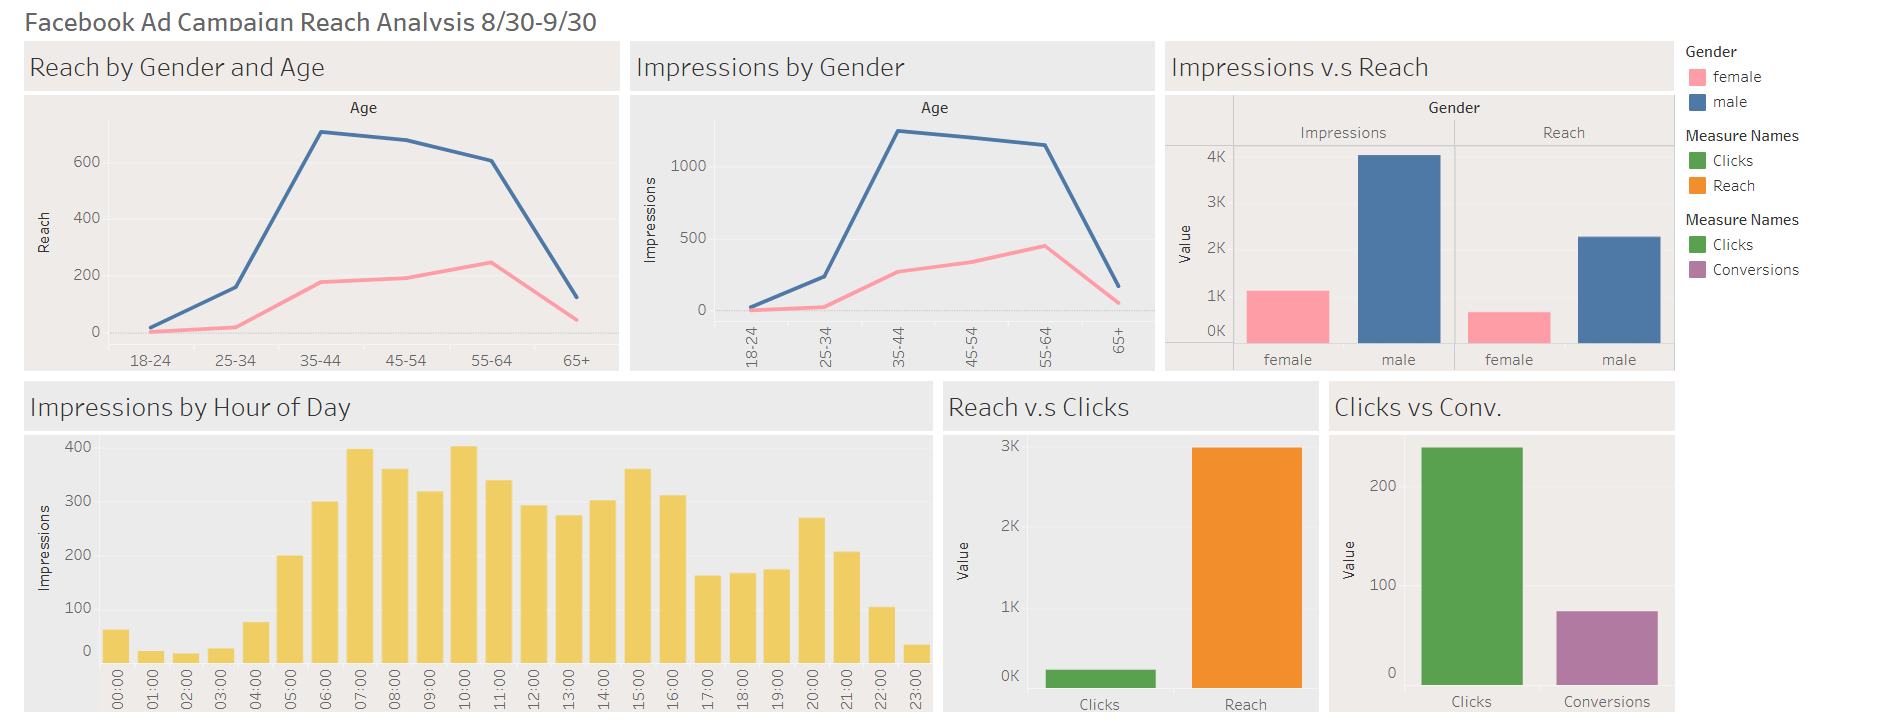

The page's visual inventory and layout, read from the dashboard file:
{"tool":"tableau","page":{"name":"Dashboard 2","canvas":[1000,1000],"units":"permille","ordinal":0},"visuals":[{"type":"image","param":"Image/league_logo3.jpg","box":[5.2,8.3,230.2,219.8]},{"type":"text","box":[235.4,8.3,758.2,100]},{"type":"text","box":[235.4,108.4,758.2,42.1]},{"type":"image","param":"Image/top.png","box":[236,151.5,71,75.6]},{"type":"text","box":[307,151.5,80.5,75.6]},{"type":"image","param":"Image/jungle.png","box":[388.8,151.5,69.7,75.6]},{"type":"text","box":[458.5,151.5,61.3,75.6]},{"type":"image","param":"Image/mid.png","box":[531.9,151.5,78.1,75.6]},{"type":"text","box":[609.9,151.5,76.6,75.6]},{"type":"image","param":"Image/supp.png","box":[687.9,151.5,81.9,75.6]},{"type":"text","box":[769.8,151.5,69,75.6]},{"type":"image","param":"Image/bottom.png","box":[840.1,151.5,43.8,75.6]},{"type":"text","box":[883.9,151.5,109,75.6]},{"type":"worksheet","title":"Sheet 1","mark":"Automatic","rows":["Name"],"cols":["Pick %","Pick %"],"box":[5.2,228.2,352.6,381.8]},{"type":"worksheet","title":"Sheet 2","mark":"Automatic","rows":["Name","Role"],"cols":["Win %","Win %"],"box":[357.8,228.2,419,381.8]},{"type":"worksheet","title":"Sheet 4","mark":"Shape","rows":["Name"],"cols":["Role"],"box":[776.8,228.2,218.1,763.5]},{"type":"worksheet","title":"Sheet 3","mark":"Automatic","rows":["Name"],"cols":["Ban %","Ban %"],"box":[5.2,609.9,352.6,381.8]},{"type":"worksheet","title":"Sheet 5","mark":"Automatic","rows":["Role"],"cols":["Win %","Win %"],"box":[357.8,609.9,419,381.8]}]}

Visuals, with their boxes on the dashboard's canvas, which has no fixed pixel size, in thousandths of its width and height (x1, y1, x2, y2). These are canvas units, not pixel positions in the 1885x722 screenshot, which may show the page scaled, cropped or inside an application window:
image: {"x1": 5, "y1": 8, "x2": 235, "y2": 228}
text: {"x1": 235, "y1": 8, "x2": 994, "y2": 108}
text: {"x1": 235, "y1": 108, "x2": 994, "y2": 150}
image: {"x1": 236, "y1": 152, "x2": 307, "y2": 227}
text: {"x1": 307, "y1": 152, "x2": 388, "y2": 227}
image: {"x1": 389, "y1": 152, "x2": 458, "y2": 227}
text: {"x1": 458, "y1": 152, "x2": 520, "y2": 227}
image: {"x1": 532, "y1": 152, "x2": 610, "y2": 227}
text: {"x1": 610, "y1": 152, "x2": 686, "y2": 227}
image: {"x1": 688, "y1": 152, "x2": 770, "y2": 227}
text: {"x1": 770, "y1": 152, "x2": 839, "y2": 227}
image: {"x1": 840, "y1": 152, "x2": 884, "y2": 227}
text: {"x1": 884, "y1": 152, "x2": 993, "y2": 227}
"Sheet 1" worksheet: {"x1": 5, "y1": 228, "x2": 358, "y2": 610}
"Sheet 2" worksheet: {"x1": 358, "y1": 228, "x2": 777, "y2": 610}
"Sheet 4" worksheet (Shape marks): {"x1": 777, "y1": 228, "x2": 995, "y2": 992}
"Sheet 3" worksheet: {"x1": 5, "y1": 610, "x2": 358, "y2": 992}
"Sheet 5" worksheet: {"x1": 358, "y1": 610, "x2": 777, "y2": 992}
